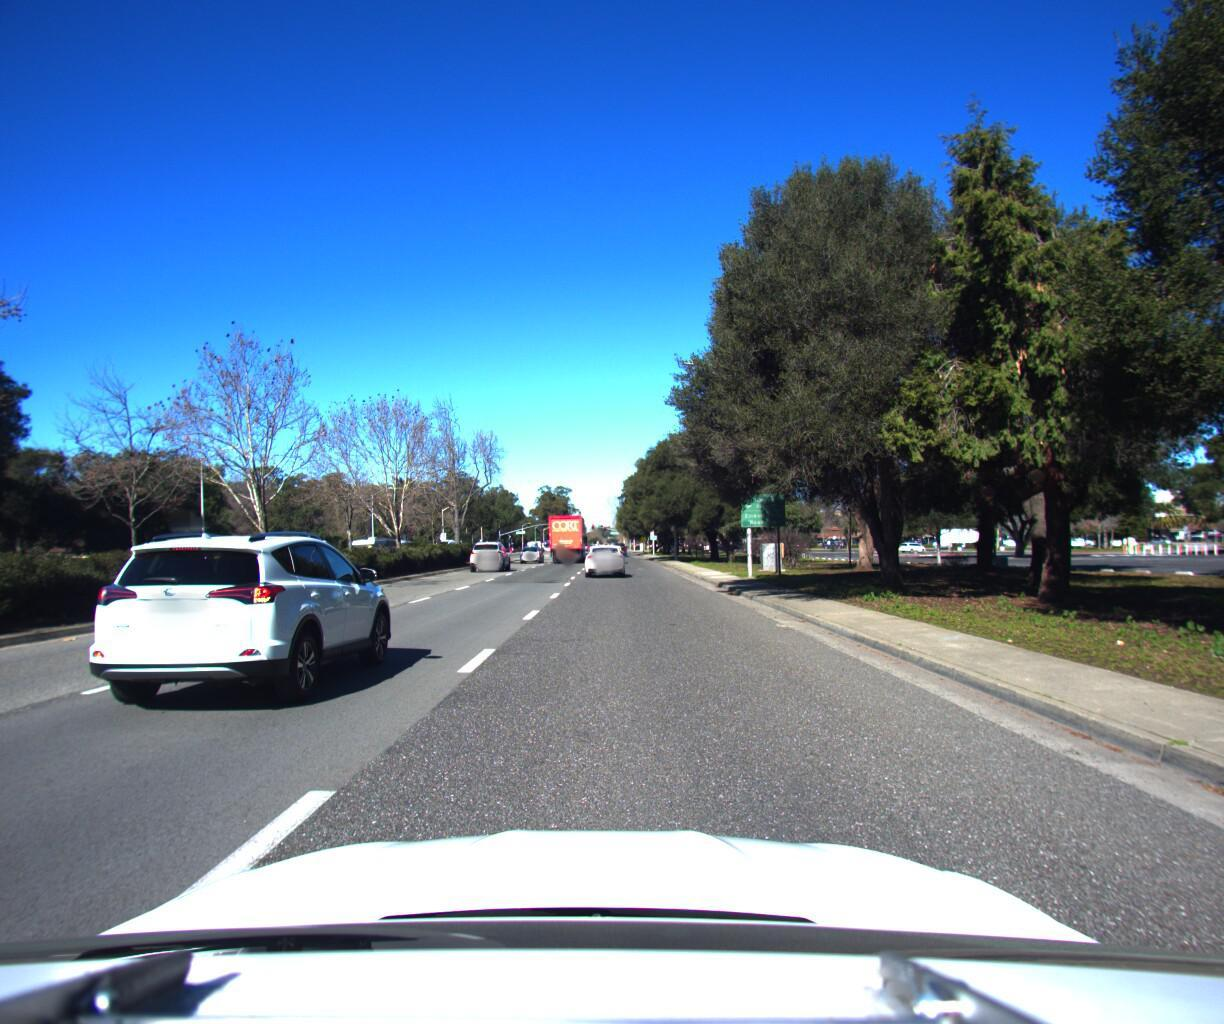bus: (174, 528, 289, 573)
car: (67, 520, 409, 723), (582, 535, 627, 570), (467, 531, 513, 564), (514, 532, 543, 554)
truck: (546, 503, 591, 554)
